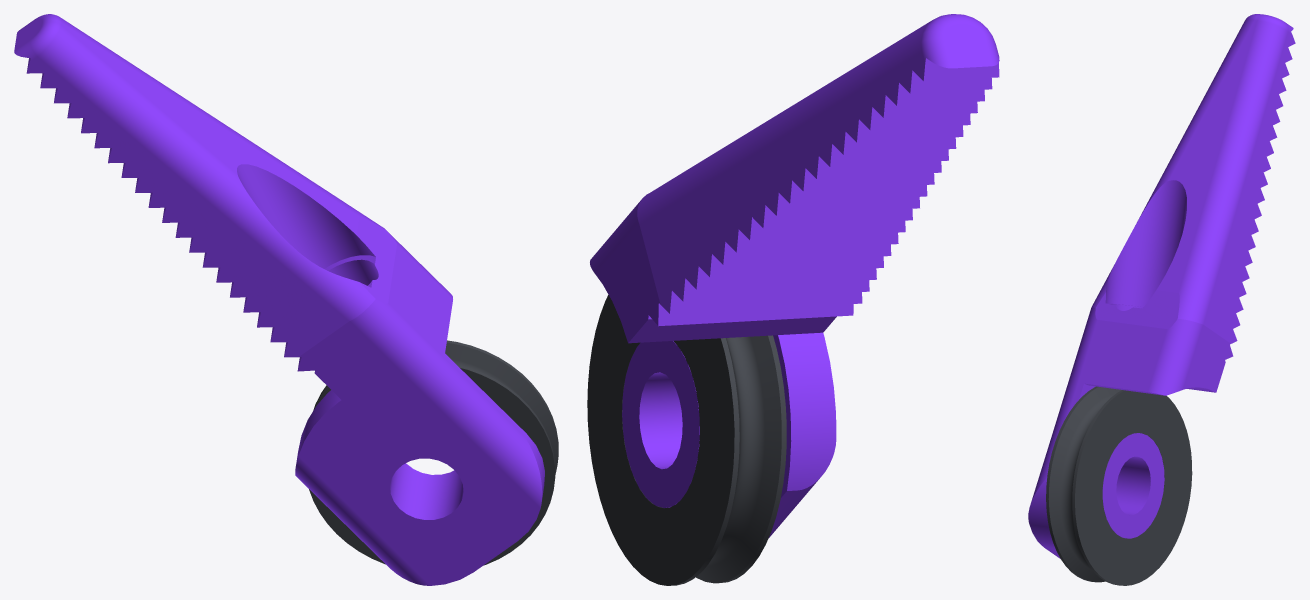
File: grasper_1.dae
The picture shows the model from 3 angles, left to right: view 1: azimuth 30°, elevation 25°; view 2: azimuth 150°, elevation 25°; view 3: azimuth 270°, elevation 25°; orthographic projection. The views are drawn at different scales.
Parts seen in each view (by area): view 1: Actor0, Actor1; view 2: Actor0, Actor1; view 3: Actor0, Actor1.
Boxes of the visible parts, x1=… form: Actor0: x1=14, y1=14, x2=544, y2=585; Actor1: x1=309, y1=340, x2=558, y2=565; Actor0: x1=590, y1=14, x2=999, y2=538; Actor1: x1=587, y1=295, x2=786, y2=585; Actor0: x1=1028, y1=14, x2=1295, y2=558; Actor1: x1=1046, y1=386, x2=1192, y2=585.
Size of the model in its own units: 0.0167 by 0.0208 by 0.0113.
